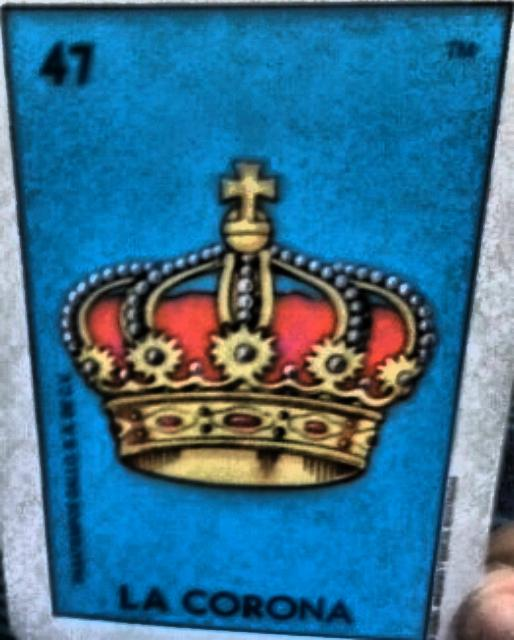La Corona: (2, 5, 509, 628)
